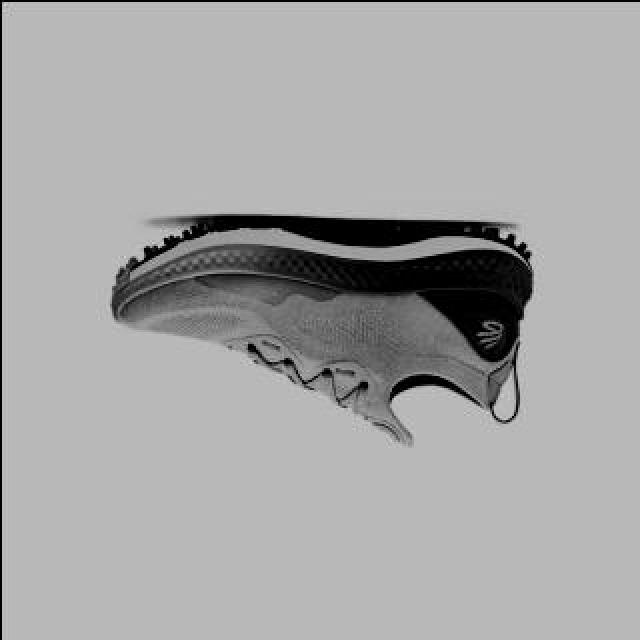shoe: (110, 219, 534, 445)
